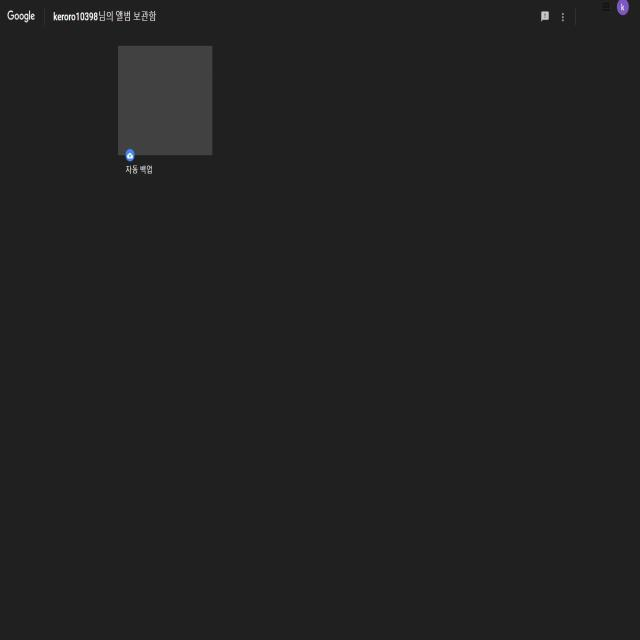menu-bar: (534, 5, 569, 28)
